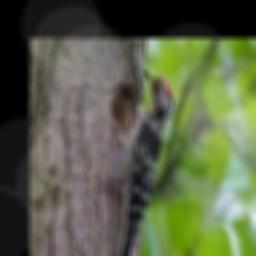Woodpecker: (111, 67, 173, 256)
